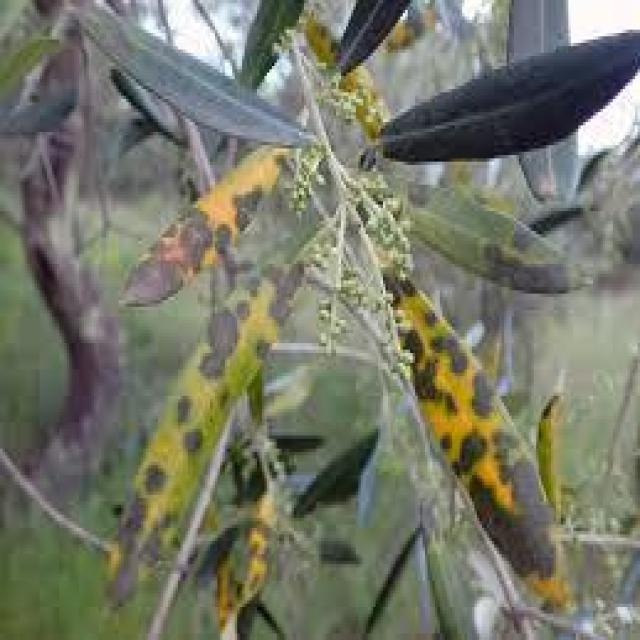Peacock Eye: (109, 264, 301, 600), (385, 274, 561, 600), (121, 148, 284, 304), (410, 185, 588, 294)
